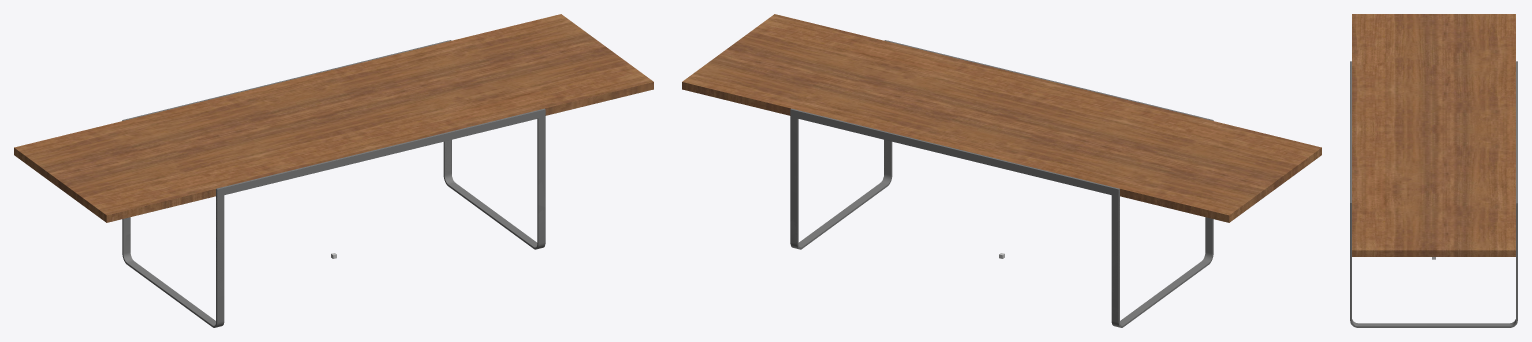
File: table cassée.obj
The picture shows the model from 3 angles, left to right: view 1: azimuth 30°, elevation 25°; view 2: azimuth 150°, elevation 25°; view 3: azimuth 270°, elevation 25°; orthographic projection. The views are drawn at different scales.
Visible parts, largest first — view 1: ka_design_t1_obj.001, ka_design_t1_obj.000, ka_design_t1_obj.001_cell.002_ka_design_t1_obj.001_cell.001, ka_design_t1_obj.001_cell.034_ka_design_t1_obj.001_cell.032, ka_design_t1_obj.001_cell.015_ka_design_t1_obj.001_cell.013, ka_design_t1_obj.001_cell.001_ka_design_t1_obj.001_cell.000, ka_design_t1_obj.001_cell.024_ka_design_t1_obj.001_cell.022, ka_design_t1_obj.001_cell_ka_design_t1_obj.001_cell.035, ka_design_t1_obj.001_cell.008_ka_design_t1_obj.001_cell.007, ka_design_t1_obj.001_cell.007_ka_design_t1_obj.001_cell.006, ka_design_t1_obj.001_cell.004_ka_design_t1_obj.001_cell.003, ka_design_t1_obj.001_cell.020_ka_design_t1_obj.001_cell.018 (+6 smaller); view 2: ka_design_t1_obj.001, ka_design_t1_obj.000, ka_design_t1_obj.001_cell.001_ka_design_t1_obj.001_cell.000, ka_design_t1_obj.001_cell.024_ka_design_t1_obj.001_cell.022, ka_design_t1_obj.001_cell.015_ka_design_t1_obj.001_cell.013, ka_design_t1_obj.001_cell_ka_design_t1_obj.001_cell.035, ka_design_t1_obj.001_cell.007_ka_design_t1_obj.001_cell.006, ka_design_t1_obj.000_cell.052_ka_design_t1_obj.000_cell.027, ka_design_t1_obj.001_cell.020_ka_design_t1_obj.001_cell.018, ka_design_t1_obj.001_cell.010_ka_design_t1_obj.001_cell.009, ka_design_t1_obj.001_cell.034_ka_design_t1_obj.001_cell.032; view 3: ka_design_t1_obj.001, ka_design_t1_obj.001_cell.002_ka_design_t1_obj.001_cell.001, ka_design_t1_obj.001_cell.001_ka_design_t1_obj.001_cell.000, ka_design_t1_obj.001_cell.024_ka_design_t1_obj.001_cell.022, ka_design_t1_obj.000, ka_design_t1_obj.001_cell.030_ka_design_t1_obj.001_cell.028, ka_design_t1_obj.001_cell.008_ka_design_t1_obj.001_cell.007, ka_design_t1_obj.001_cell.015_ka_design_t1_obj.001_cell.013, ka_design_t1_obj.001_cell_ka_design_t1_obj.001_cell.035, ka_design_t1_obj.001_cell.004_ka_design_t1_obj.001_cell.003, ka_design_t1_obj.001_cell.033_ka_design_t1_obj.001_cell.031, ka_design_t1_obj.001_cell.022_ka_design_t1_obj.001_cell.020 (+4 smaller).
Part boxes in pixels (<box>): ka_design_t1_obj.001: <box>14,14,653,222</box>; ka_design_t1_obj.000: <box>122,40,545,327</box>; ka_design_t1_obj.001_cell.002_ka_design_t1_obj.001_cell.001: <box>102,145,233,211</box>; ka_design_t1_obj.001_cell.034_ka_design_t1_obj.001_cell.032: <box>327,81,504,129</box>; ka_design_t1_obj.001_cell.015_ka_design_t1_obj.001_cell.013: <box>150,95,271,140</box>; ka_design_t1_obj.001_cell.001_ka_design_t1_obj.001_cell.000: <box>376,49,519,97</box>; ka_design_t1_obj.001_cell.024_ka_design_t1_obj.001_cell.022: <box>267,64,378,115</box>; ka_design_t1_obj.001_cell_ka_design_t1_obj.001_cell.035: <box>323,123,441,153</box>; ka_design_t1_obj.001_cell.008_ka_design_t1_obj.001_cell.007: <box>53,137,182,156</box>; ka_design_t1_obj.001_cell.007_ka_design_t1_obj.001_cell.006: <box>526,49,614,102</box>; ka_design_t1_obj.001_cell.004_ka_design_t1_obj.001_cell.003: <box>97,190,150,222</box>; ka_design_t1_obj.001_cell.020_ka_design_t1_obj.001_cell.018: <box>480,27,580,52</box>; ka_design_t1_obj.001: <box>682,14,1321,222</box>; ka_design_t1_obj.000: <box>790,40,1213,327</box>; ka_design_t1_obj.001_cell.001_ka_design_t1_obj.001_cell.000: <box>800,55,886,123</box>; ka_design_t1_obj.001_cell.024_ka_design_t1_obj.001_cell.022: <box>889,110,1017,153</box>; ka_design_t1_obj.001_cell.015_ka_design_t1_obj.001_cell.013: <box>1033,139,1117,181</box>; ka_design_t1_obj.001_cell_ka_design_t1_obj.001_cell.035: <box>987,68,1068,109</box>; ka_design_t1_obj.001_cell.007_ka_design_t1_obj.001_cell.006: <box>730,25,873,54</box>; ka_design_t1_obj.000_cell.052_ka_design_t1_obj.000_cell.027: <box>1002,160,1084,188</box>; ka_design_t1_obj.001_cell.020_ka_design_t1_obj.001_cell.018: <box>716,55,794,100</box>; ka_design_t1_obj.001_cell.010_ka_design_t1_obj.001_cell.009: <box>682,76,724,96</box>; ka_design_t1_obj.001_cell.034_ka_design_t1_obj.001_cell.032: <box>888,57,1012,121</box>; ka_design_t1_obj.001: <box>1352,14,1515,256</box>; ka_design_t1_obj.001_cell.002_ka_design_t1_obj.001_cell.001: <box>1352,25,1444,79</box>; ka_design_t1_obj.001_cell.001_ka_design_t1_obj.001_cell.000: <box>1383,166,1515,206</box>; ka_design_t1_obj.001_cell.024_ka_design_t1_obj.001_cell.022: <box>1430,114,1499,166</box>; ka_design_t1_obj.000: <box>1350,61,1517,327</box>; ka_design_t1_obj.001_cell.030_ka_design_t1_obj.001_cell.028: <box>1352,45,1449,80</box>; ka_design_t1_obj.001_cell.008_ka_design_t1_obj.001_cell.007: <box>1442,30,1514,69</box>; ka_design_t1_obj.001_cell.015_ka_design_t1_obj.001_cell.013: <box>1443,72,1515,99</box>; ka_design_t1_obj.001_cell_ka_design_t1_obj.001_cell.035: <box>1352,120,1404,154</box>; ka_design_t1_obj.001_cell.004_ka_design_t1_obj.001_cell.003: <box>1352,14,1395,32</box>; ka_design_t1_obj.001_cell.033_ka_design_t1_obj.001_cell.031: <box>1413,14,1483,30</box>; ka_design_t1_obj.001_cell.022_ka_design_t1_obj.001_cell.020: <box>1470,14,1514,30</box>.
Size of the model in its own units: 300 by 75 by 90.
Materials: 3 (1 with a texture image).
